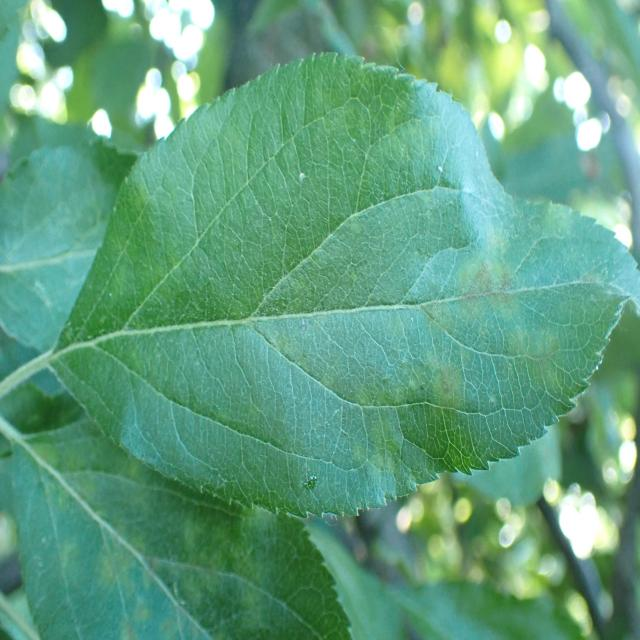scab: (207, 222, 618, 474), (35, 428, 260, 640)
